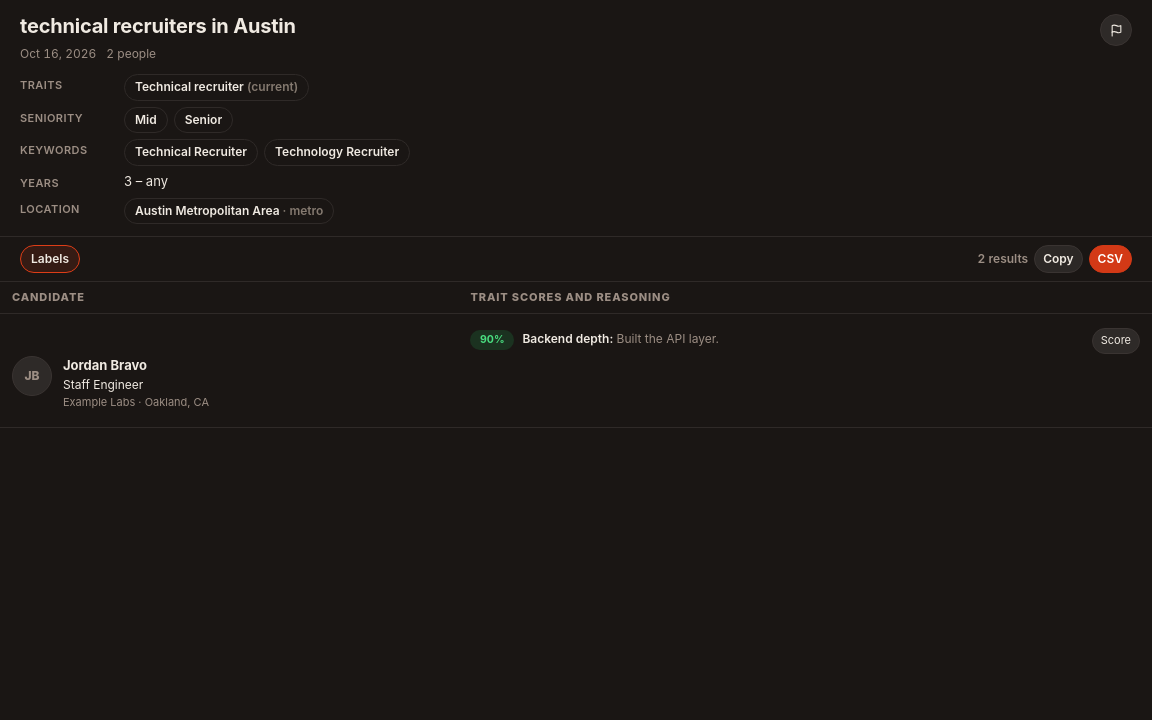
it: RunView › shows a quick search's traits and filters where the chain sat, and one score per person
Expected: the text "Traits" is shown, [20, 78, 62, 92]
Expected: the text "Technical recruiter" reads "Technical recruiter (current)", [124, 74, 309, 101]
Click the row: (32, 376) [0, 314, 1151, 426]
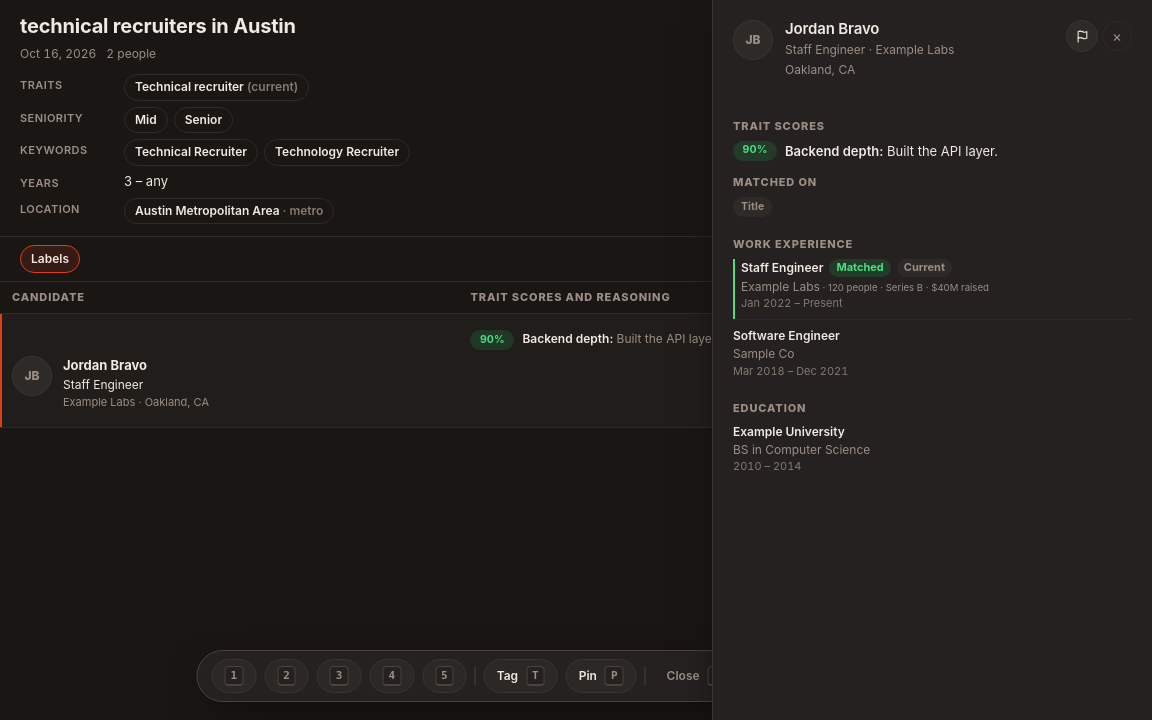
Now the text "90%" below "Staff Engineer · Example Labs" is shown, box [733, 141, 777, 161]
